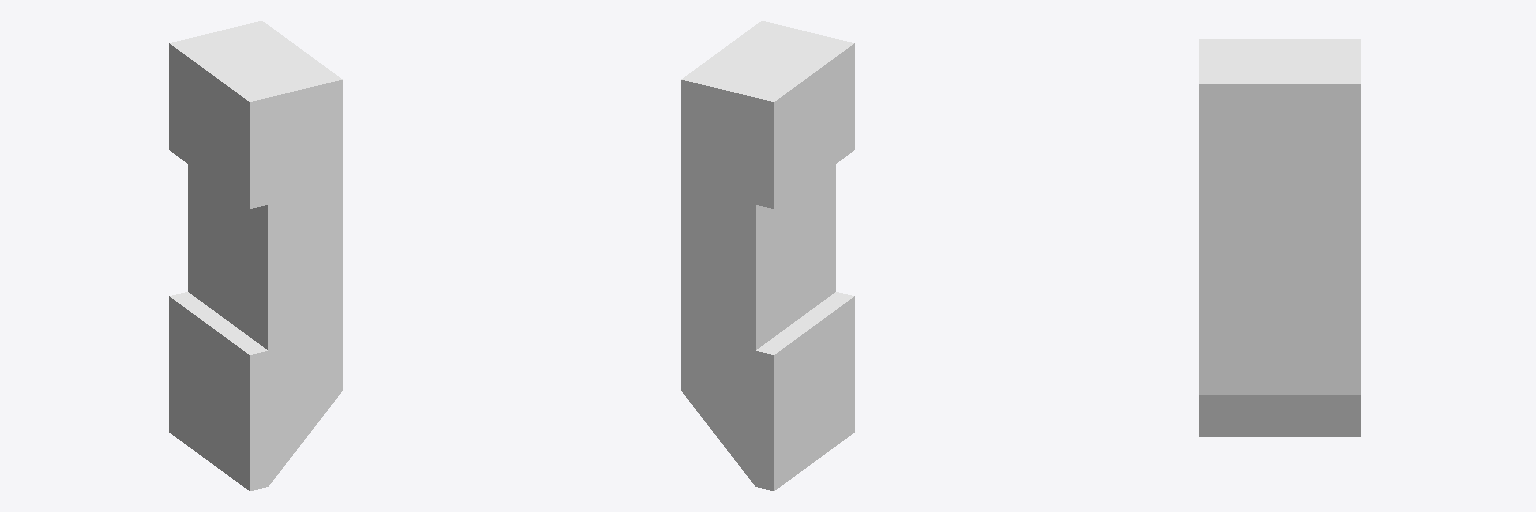
The model's file is RA_Gripper_1.obj.
3 renders of one model, left to right at view 1: azimuth 30°, elevation 25°; view 2: azimuth 150°, elevation 25°; view 3: azimuth 270°, elevation 25°, orthographic.
Visible parts, largest first — view 1: Right_Gripper_2D_Pick_and_Place; view 2: Right_Gripper_2D_Pick_and_Place; view 3: Right_Gripper_2D_Pick_and_Place.
Part boxes in pixels (bbox=[...]): Right_Gripper_2D_Pick_and_Place: bbox=[169, 21, 342, 490]; Right_Gripper_2D_Pick_and_Place: bbox=[681, 21, 854, 490]; Right_Gripper_2D_Pick_and_Place: bbox=[1199, 39, 1360, 436].
Size of the model in its own units: 10 by 40 by 15.